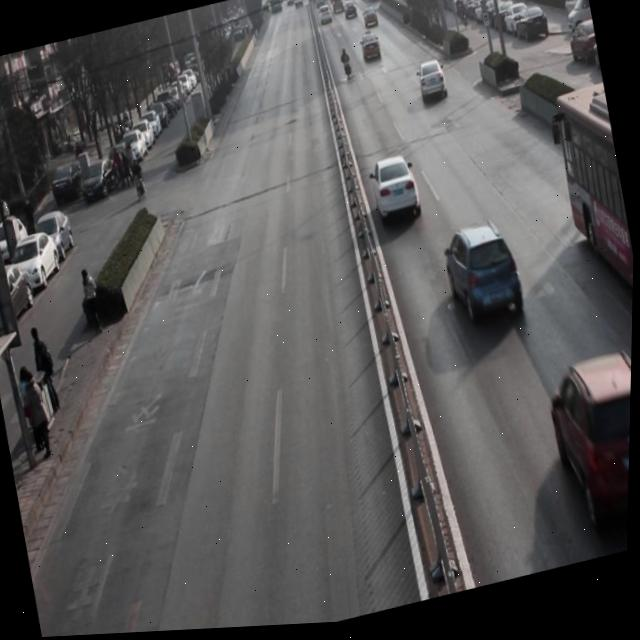car: (541, 348, 633, 557), (440, 219, 532, 346), (369, 153, 428, 235), (417, 59, 454, 113), (357, 31, 383, 73)
van: (545, 90, 638, 367)
